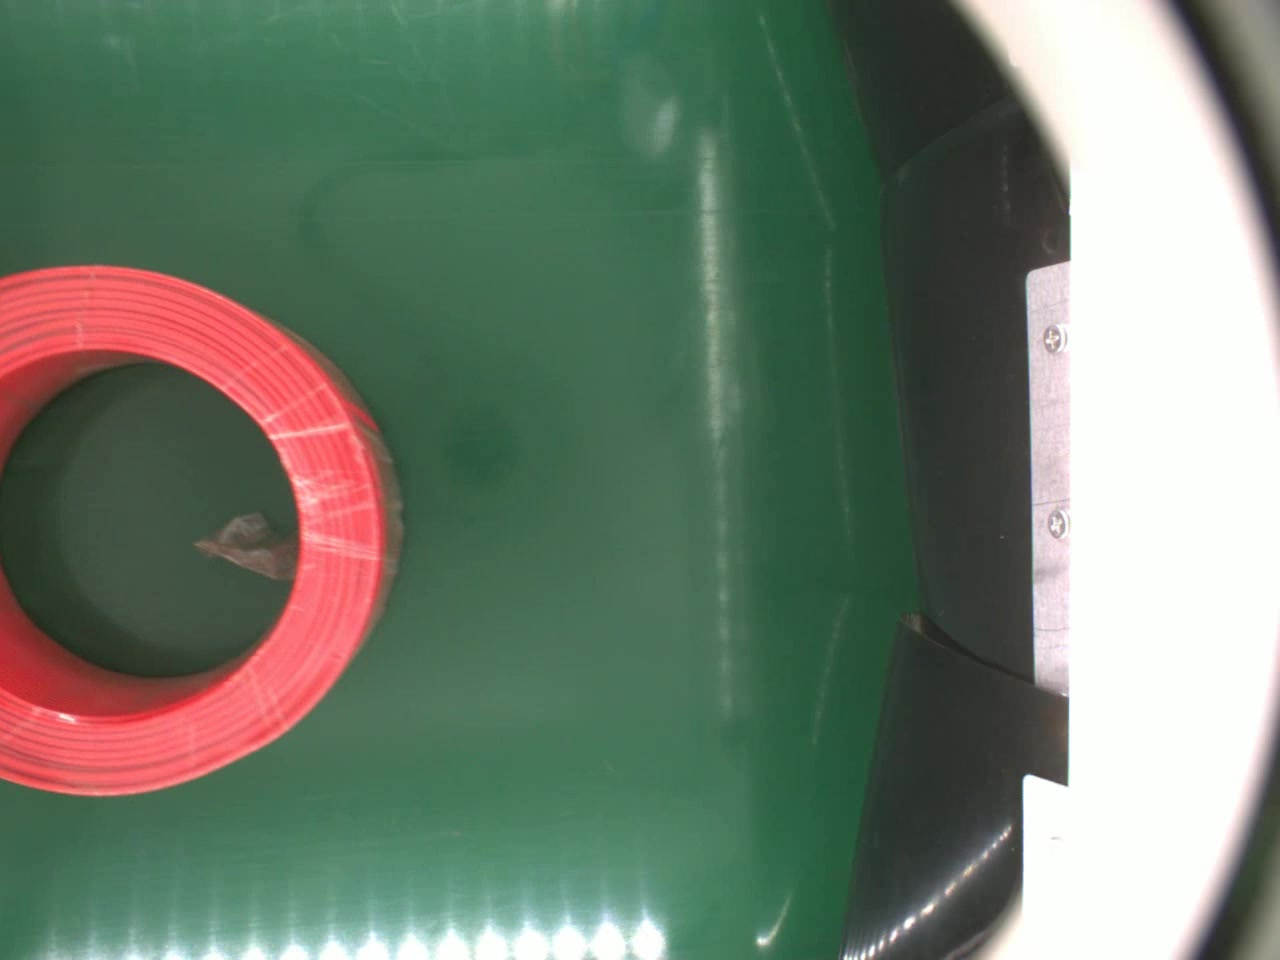red: (0, 260, 406, 803)
